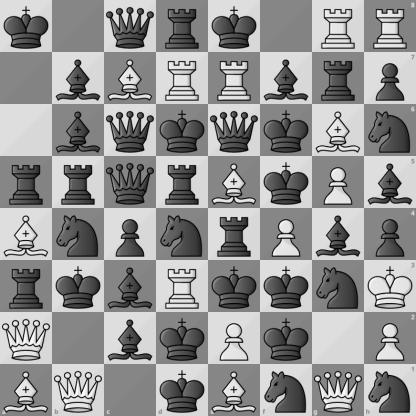B: (0, 364, 52, 416), (209, 364, 260, 416), (1, 209, 52, 260), (105, 53, 156, 104), (209, 157, 260, 208), (313, 105, 364, 156)
K: (364, 260, 416, 312)
P: (364, 312, 416, 364), (209, 313, 260, 364), (261, 209, 312, 260), (313, 157, 364, 208)
Q: (52, 364, 104, 416), (312, 364, 364, 416), (1, 313, 52, 364)
R: (364, 0, 416, 52), (157, 53, 208, 104), (157, 261, 208, 312), (209, 53, 260, 104), (313, 1, 364, 52)
b: (364, 156, 416, 209), (53, 53, 104, 104), (53, 105, 104, 156), (105, 261, 156, 312), (105, 313, 156, 364), (261, 53, 312, 104), (313, 209, 364, 260)
board: (0, 0, 415, 415)
k: (156, 364, 209, 416), (1, 1, 52, 52), (53, 261, 104, 312), (157, 105, 208, 156), (157, 313, 208, 364), (209, 1, 260, 52), (209, 261, 260, 312), (261, 105, 312, 156), (261, 157, 312, 208), (261, 261, 312, 312), (261, 313, 312, 364)
n: (260, 364, 312, 416), (364, 104, 416, 156), (364, 364, 416, 416), (53, 209, 104, 260), (157, 209, 208, 260), (313, 261, 364, 312)
p: (364, 52, 416, 104), (364, 209, 416, 260), (105, 209, 156, 260)
q: (105, 1, 156, 52), (105, 105, 156, 156), (105, 157, 156, 208), (209, 105, 260, 156)
r: (1, 157, 52, 208), (1, 261, 52, 312), (53, 157, 104, 208), (157, 1, 208, 52), (157, 157, 208, 208), (209, 209, 260, 260), (313, 53, 364, 104)
